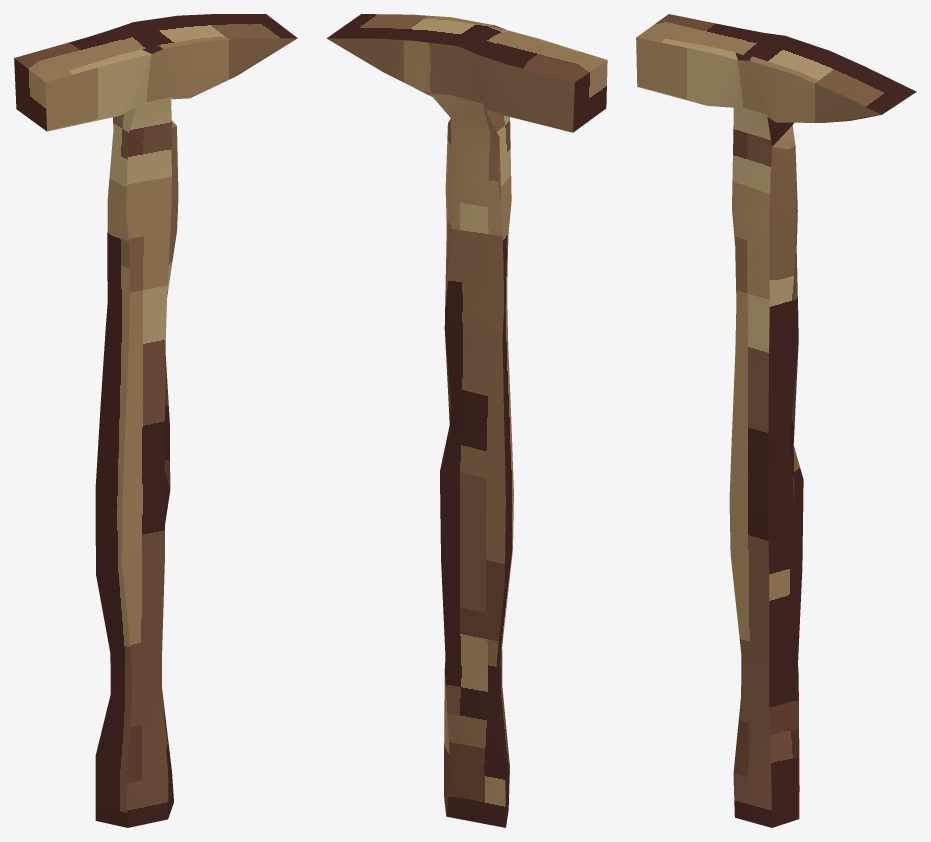
Rendered from cross_pein_hammer.glb.
3 views of the same model, side by side, from view 1: azimuth 30°, elevation 25°; view 2: azimuth 150°, elevation 25°; view 3: azimuth 330°, elevation 25° (orthographic).
Visible parts, largest first — view 1: mesh; view 2: mesh; view 3: mesh.
Boxes of the visible parts, <box> form: mesh: <box>14,14,297,827</box>; mesh: <box>326,14,607,827</box>; mesh: <box>636,14,916,827</box>.
Bounding box in the file's own units: 0.1011 × 0.3002 × 0.0238.
1 material, 1 textured.
